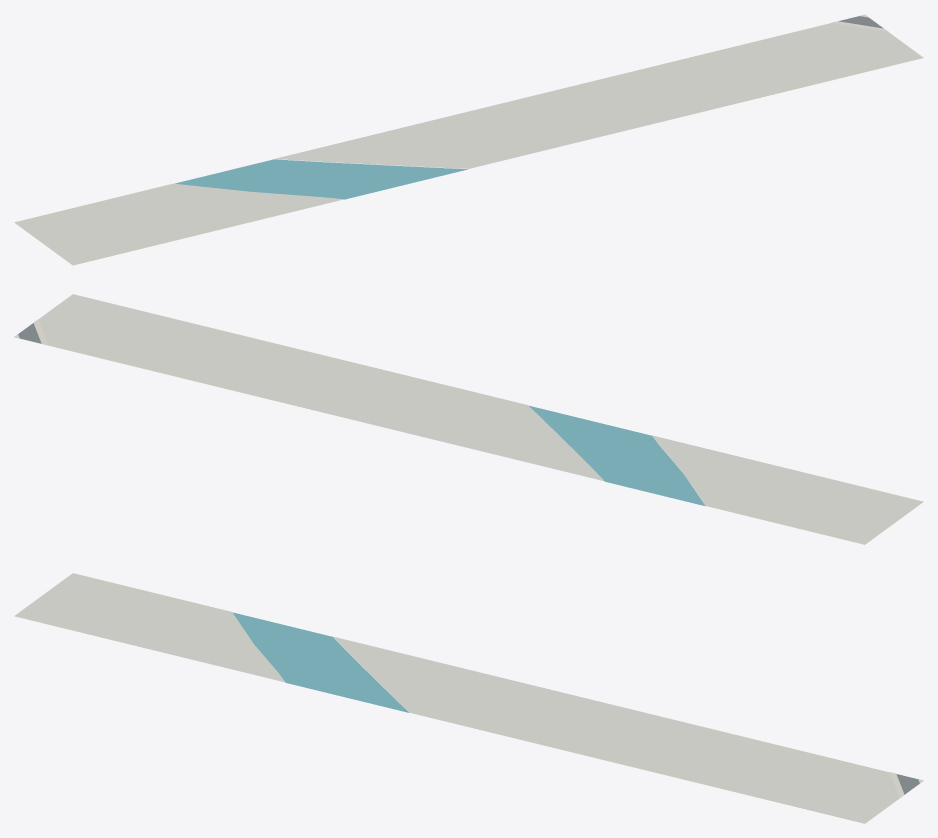
The picture shows the model from 3 angles, top to bottom: view 1: azimuth 30°, elevation 25°; view 2: azimuth 150°, elevation 25°; view 3: azimuth 330°, elevation 25°; orthographic projection.
Parts seen in each view (by area): view 1: city; view 2: city; view 3: city.
Part boxes in pixels (x1,y1,x2,y2): city: (14,14,923,265); city: (14,294,923,544); city: (14,573,923,823).
Size of the model in its own units: 500 by 0.4 by 60.
